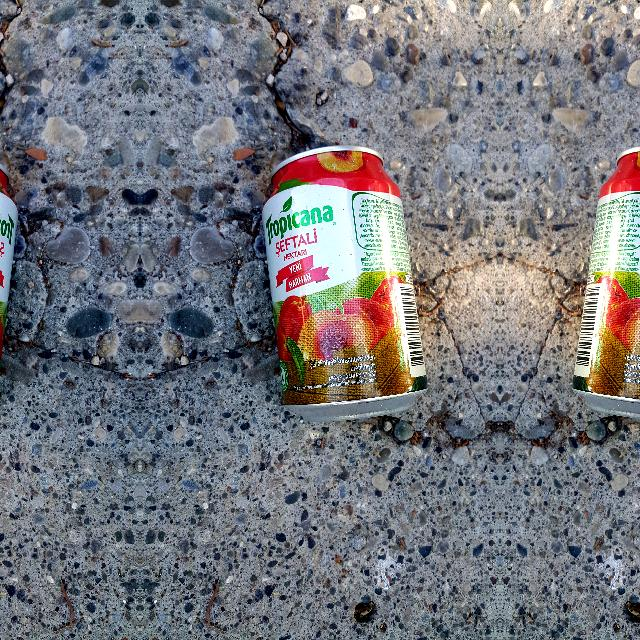Metal: (258, 130, 440, 438), (559, 129, 640, 438)
